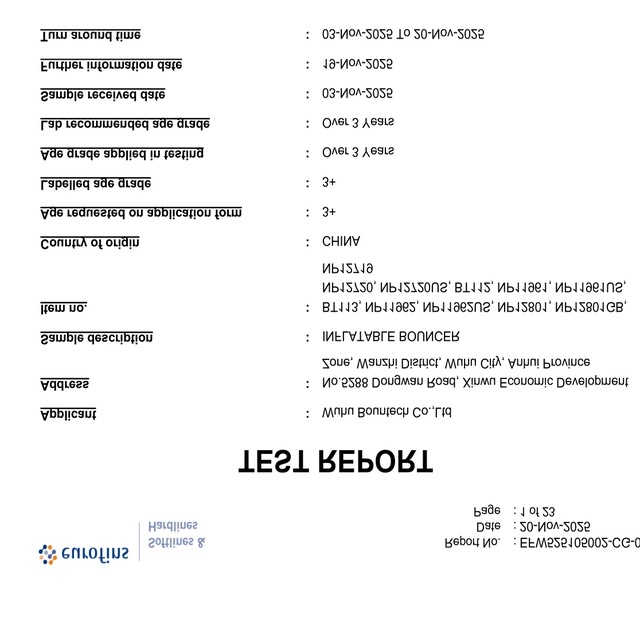eurofins: (34, 534, 134, 572)
